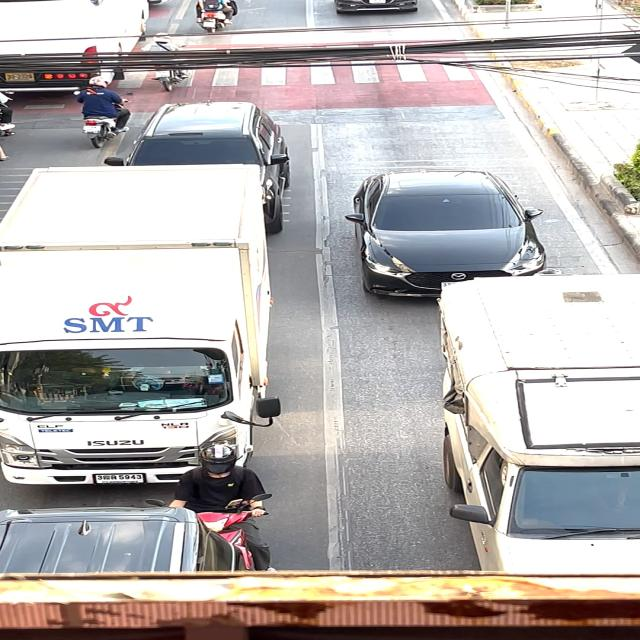car: (3, 161, 281, 485), (433, 260, 640, 580), (344, 161, 556, 282), (125, 96, 322, 226), (0, 498, 242, 579)
